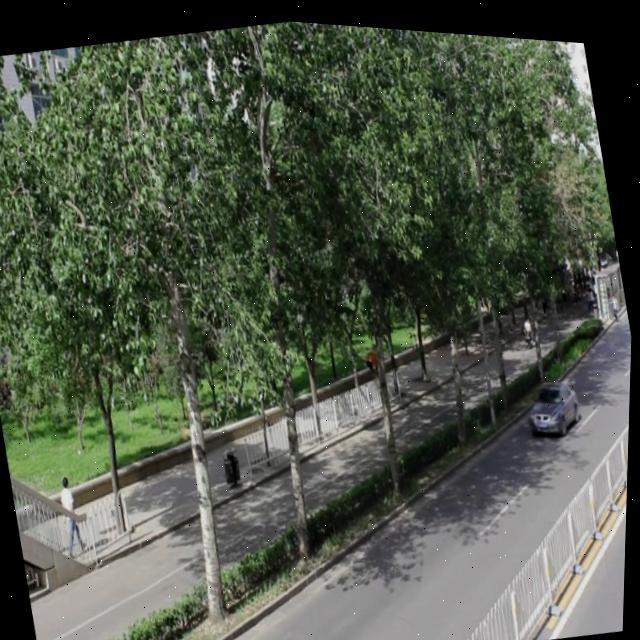car: (522, 364, 585, 432)
